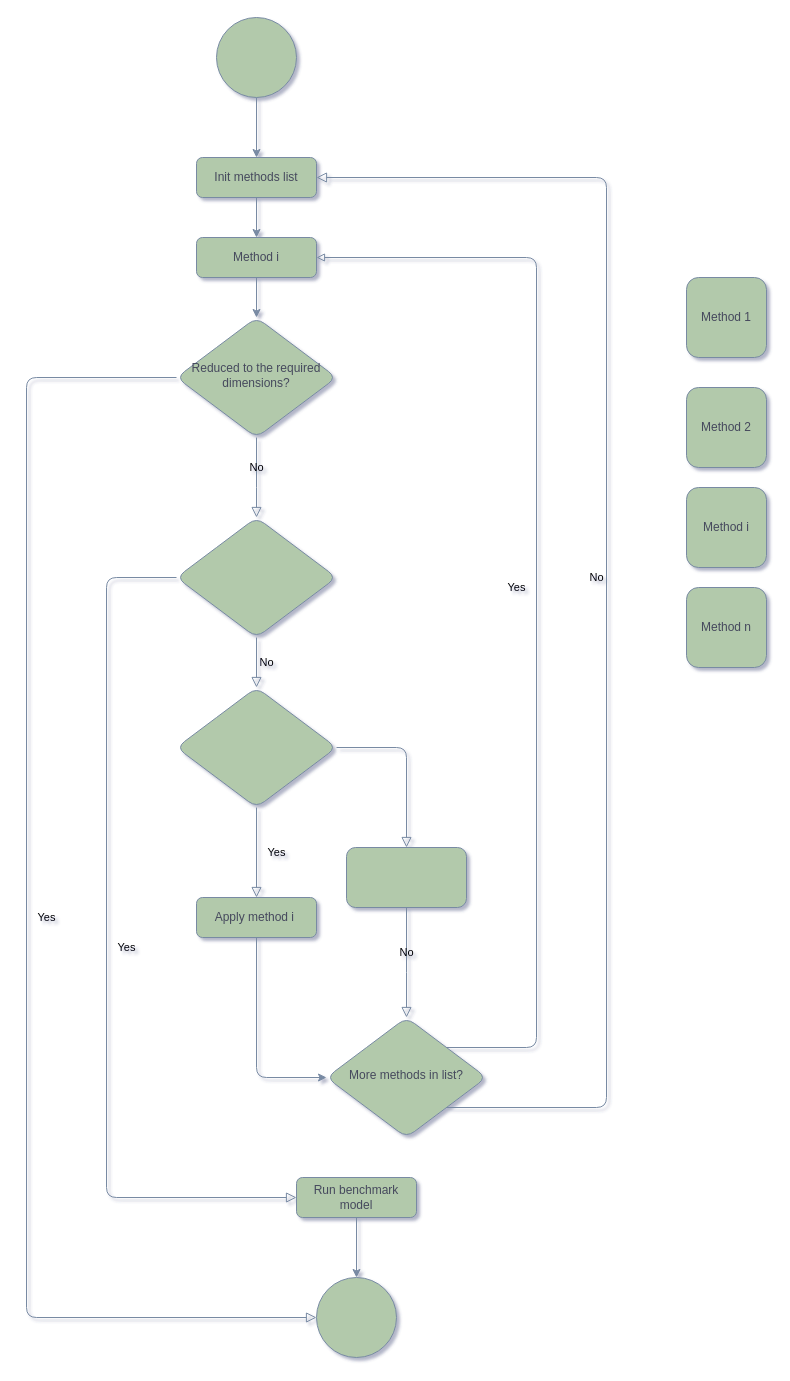
Some shapes in this 790 by 1381 pixel diagram are drawn without their labels. The centre of each missing label's shape, as x and y in pixels:
Dimensions reduced enough to run benchmark model?: the point at 256,577
Export selected features, Exit: the point at 356,1317
Method meet the required runtime?: the point at 256,747
Methods list [i] => methods list [0]: the point at 406,877
Start: the point at 256,57
